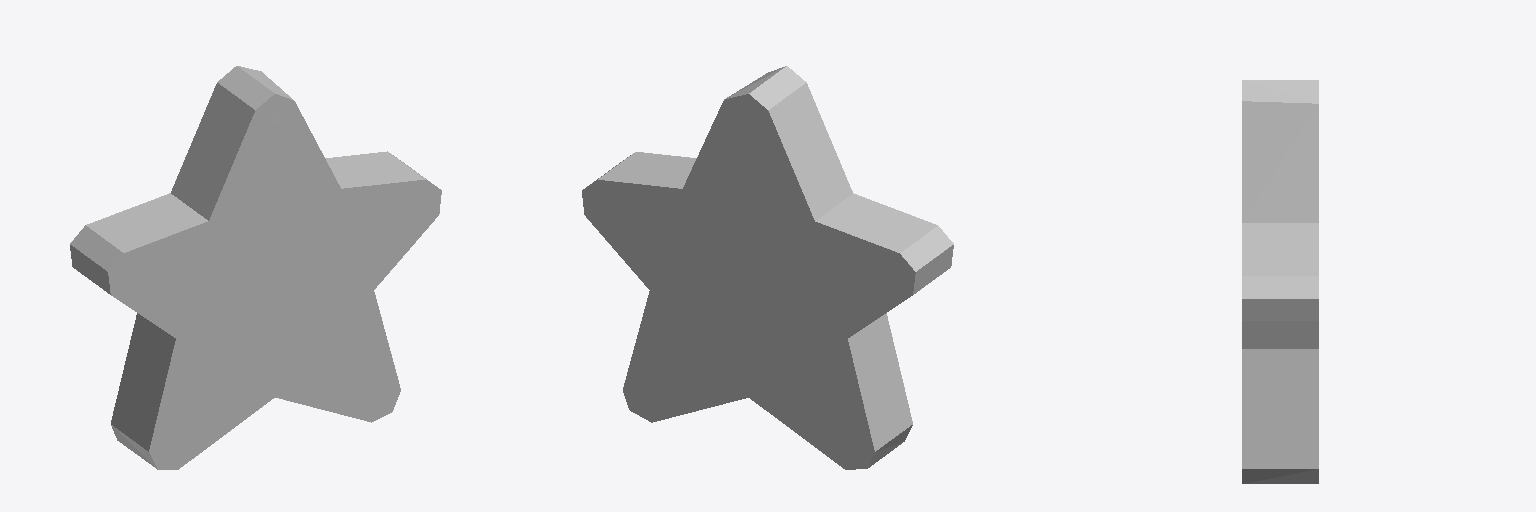
Rendered from multiplier_obj.obj.
3 renders of one model, left to right at view 1: azimuth 30°, elevation 25°; view 2: azimuth 150°, elevation 25°; view 3: azimuth 270°, elevation 25°, orthographic.
Visible parts, largest first — view 1: multiplier_0; view 2: multiplier_0; view 3: multiplier_0.
Part boxes in pixels (x1,y1,x2,y2): multiplier_0: (70, 66, 441, 469); multiplier_0: (582, 66, 953, 469); multiplier_0: (1242, 80, 1318, 483).
Size of the model in its own units: 7.17 by 7.24 by 1.49.